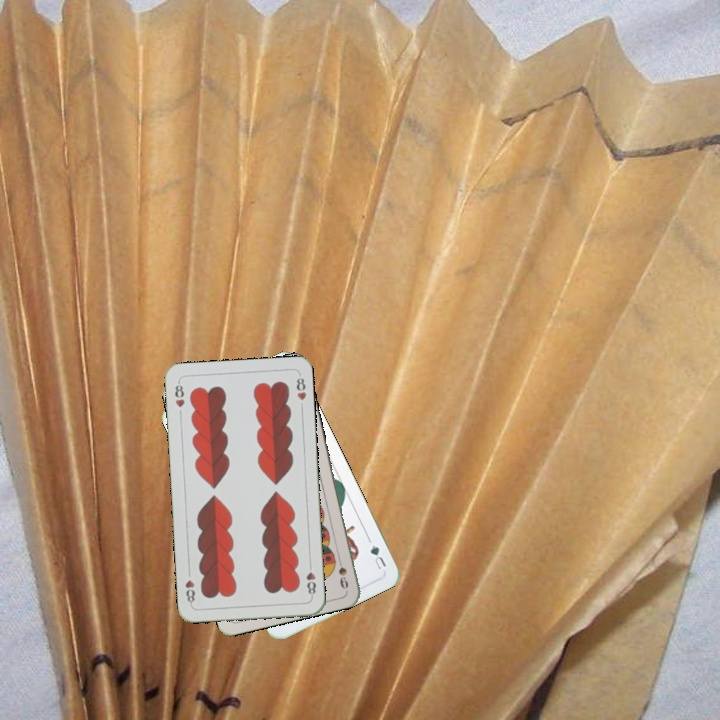GU: (366, 541, 389, 572)
H8: (302, 559, 318, 600), (171, 378, 187, 410)
S9: (333, 552, 351, 591)
